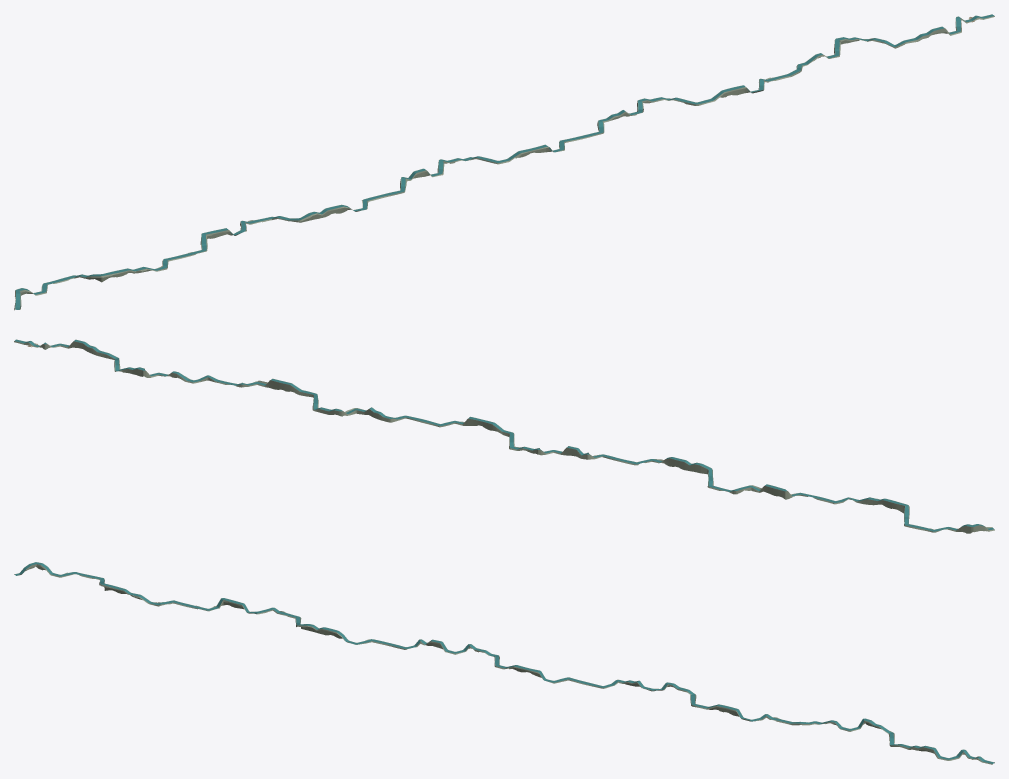
The model's file is river.glb.
3 views of the same model, one above another, from view 1: azimuth 30°, elevation 25°; view 2: azimuth 150°, elevation 25°; view 3: azimuth 330°, elevation 25° (orthographic). The views are drawn at different scales.
Size of the model in its own units: 352 by 2.94 by 39.12.
